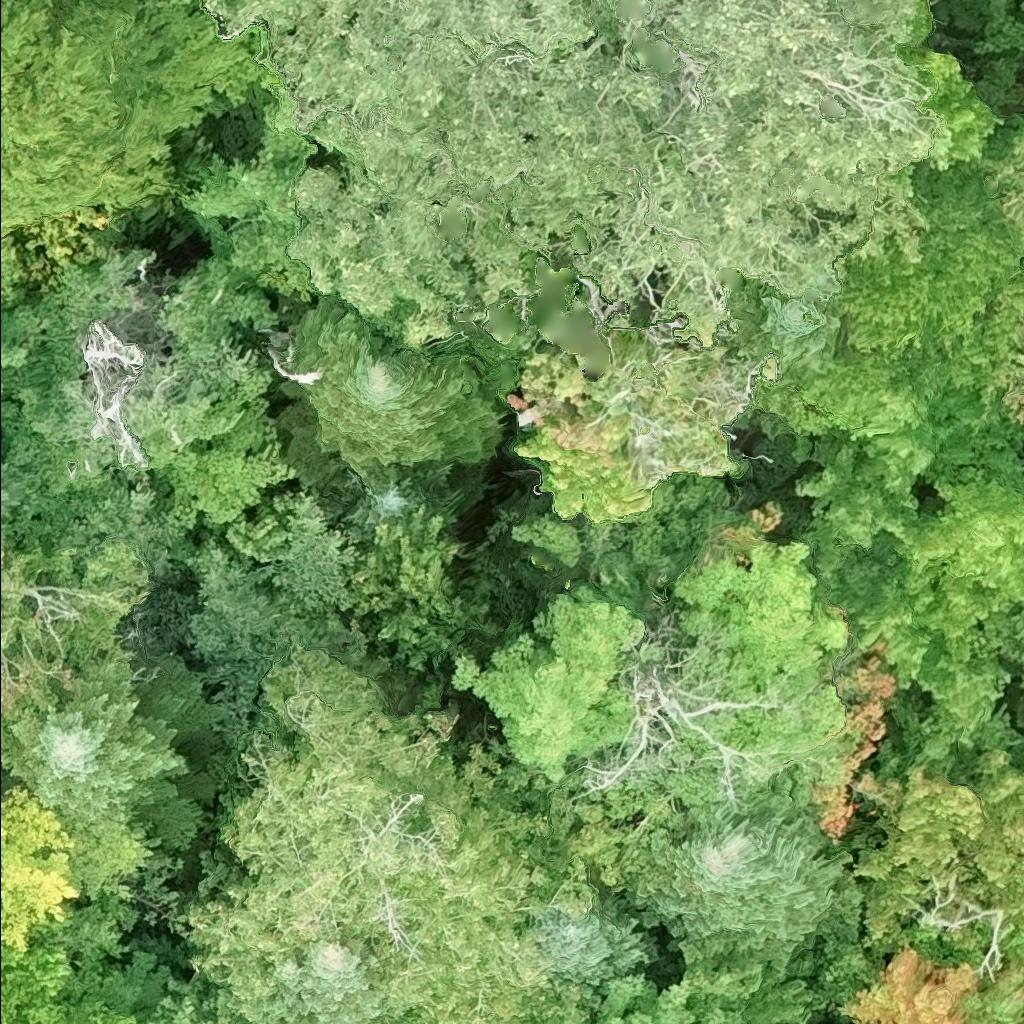crown: (185, 649, 598, 1023), (260, 19, 669, 359), (574, 0, 947, 344), (0, 0, 268, 239), (753, 346, 1023, 583), (819, 528, 1022, 758), (622, 791, 874, 974), (827, 158, 1023, 390), (278, 298, 502, 480), (448, 579, 644, 784), (181, 62, 343, 296), (669, 537, 848, 747), (851, 744, 1023, 939), (0, 662, 188, 827), (0, 538, 147, 728), (0, 244, 146, 418), (516, 349, 655, 519), (202, 0, 585, 60), (895, 463, 1023, 607), (529, 874, 666, 995), (596, 957, 825, 1023), (225, 934, 389, 1023), (0, 783, 84, 952), (722, 278, 846, 375), (0, 938, 139, 1023), (840, 944, 979, 1023), (340, 459, 464, 544), (971, 0, 1023, 118), (958, 957, 1023, 1023), (143, 976, 234, 1023), (0, 460, 39, 546), (993, 105, 1023, 178), (998, 176, 1023, 221), (1015, 606, 1023, 689), (1011, 941, 1023, 965), (1021, 1008, 1023, 1023)
